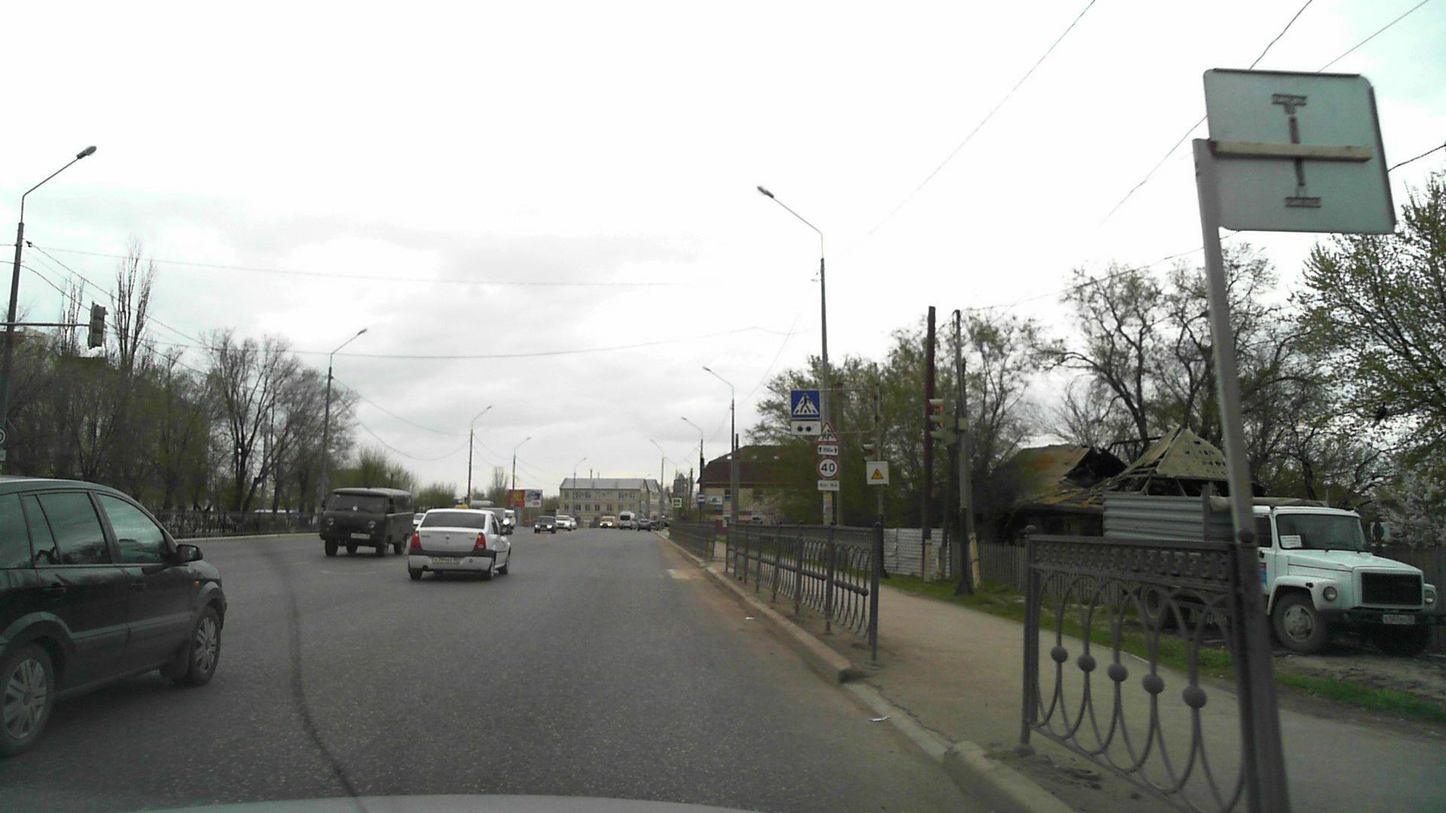off traffic light: (928, 397, 956, 449), (88, 300, 109, 350)
road_sign: (791, 390, 821, 418), (814, 420, 840, 443), (817, 457, 840, 479), (792, 422, 821, 435), (817, 445, 838, 455)
